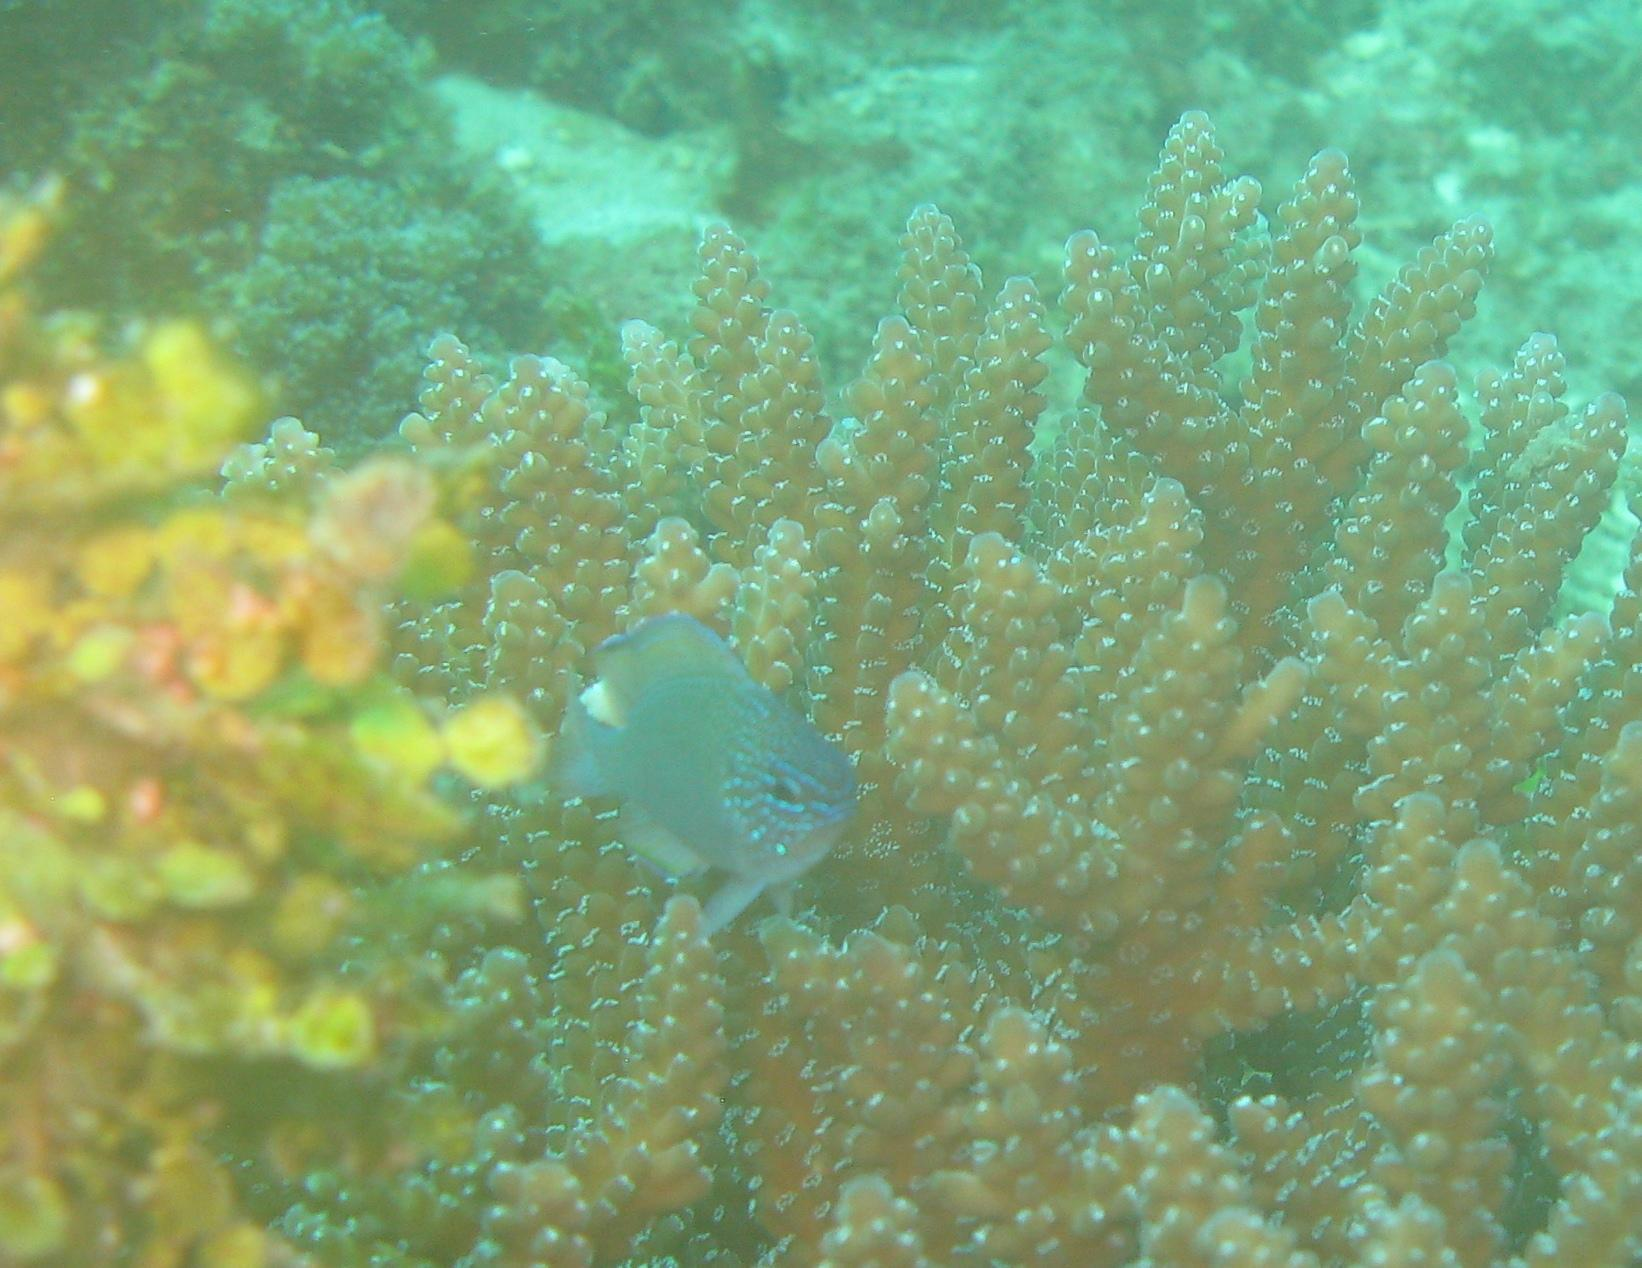Pomacentrus pavo: (549, 595, 856, 934)
